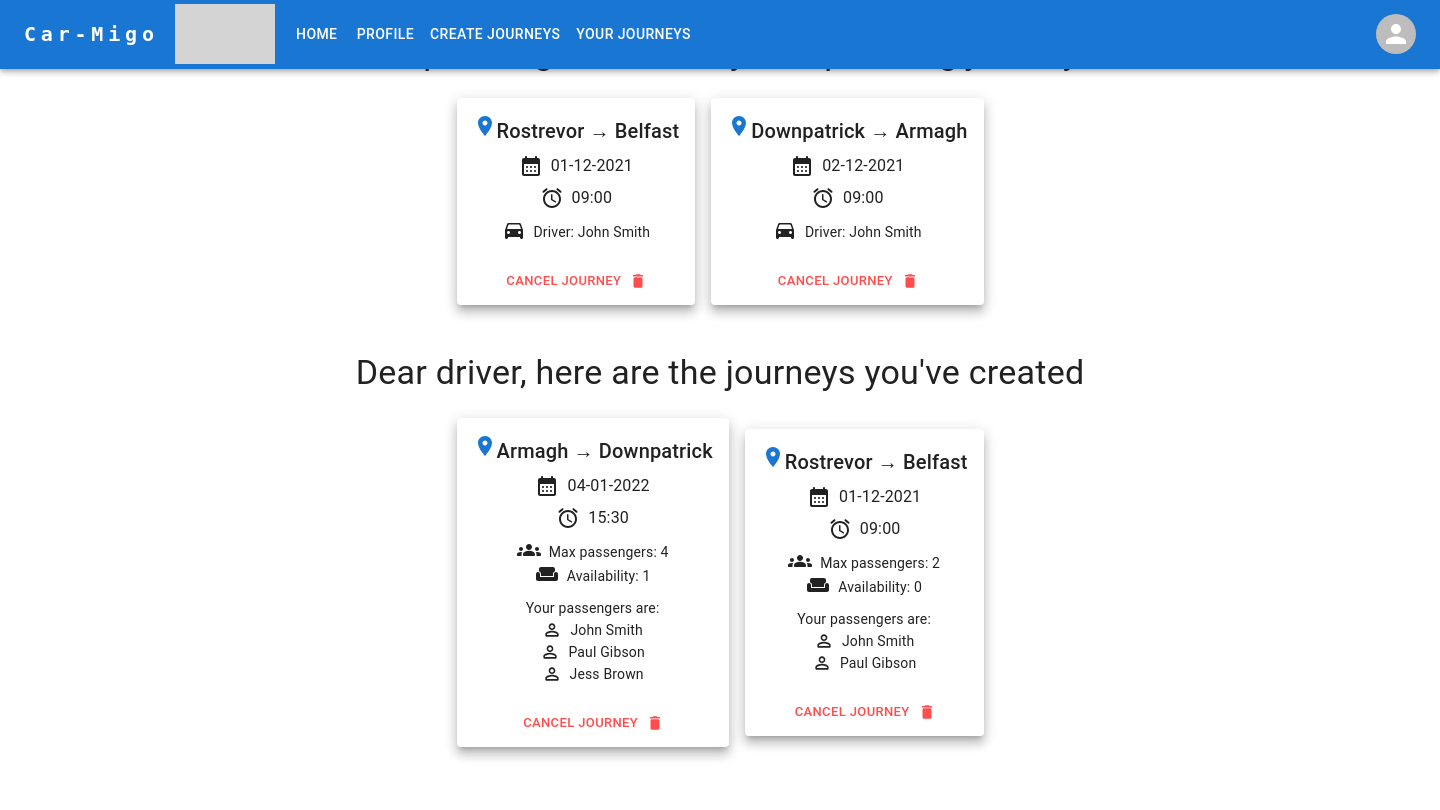
Test: YourJourneys Unit Tests › delete a journey
(page scrolled)
Click the button with test id "cancel-journey-button-3": [593, 723] box [518,708,667,739]
(page scrolled)
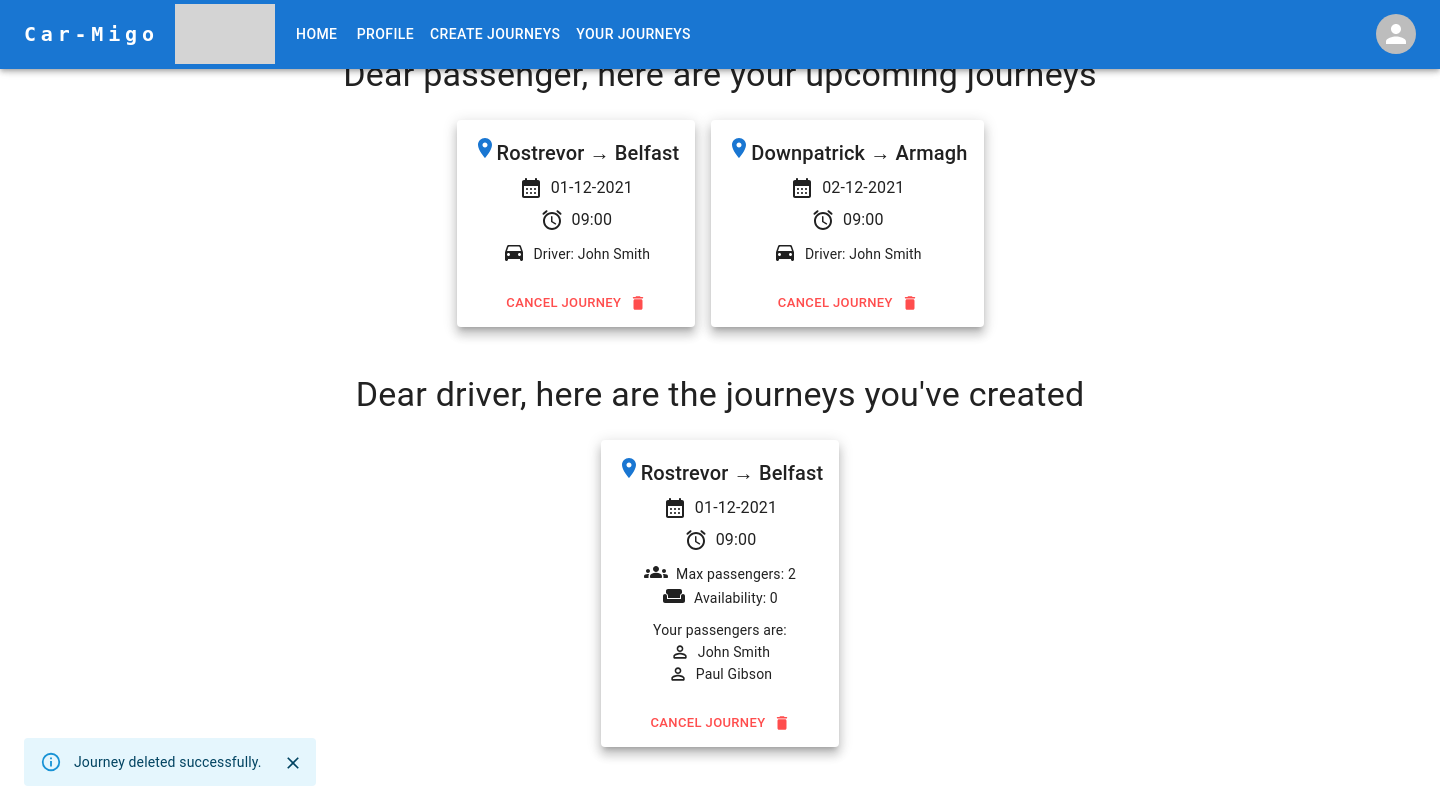
Expected: the element with test id "journey-alert-pop-up" is shown, [24,738,316,786]
Expected: the text "Journey deleted successfully." is shown, [74,754,262,770]
Click the button with test id "cancel-journey-button-4": [720, 723] box [646,708,794,739]
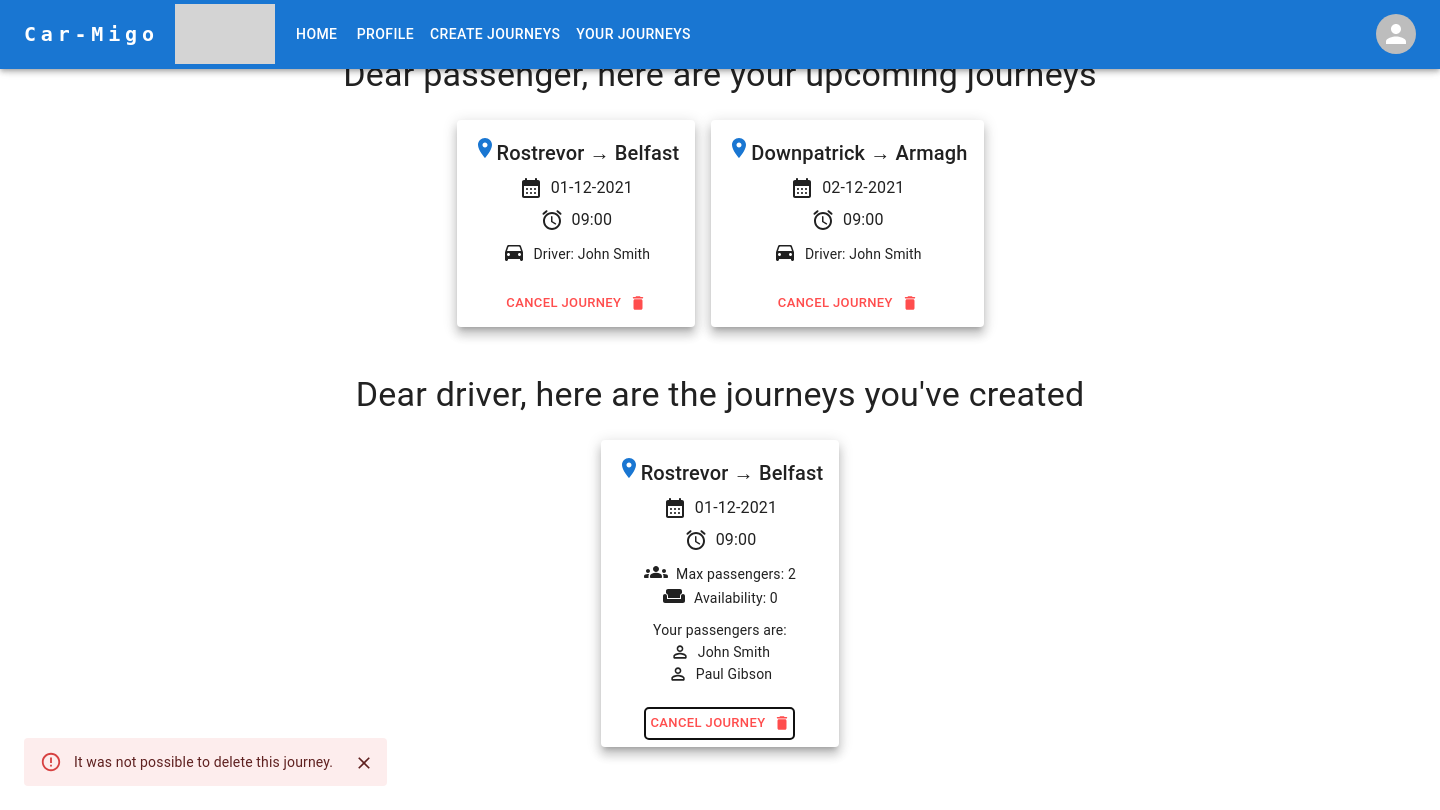
Expected: the element with test id "journey-alert-pop-up" is shown, [24,738,387,786]
Expected: the text "It was not possible to delete this journey." is shown, [74,754,333,770]
